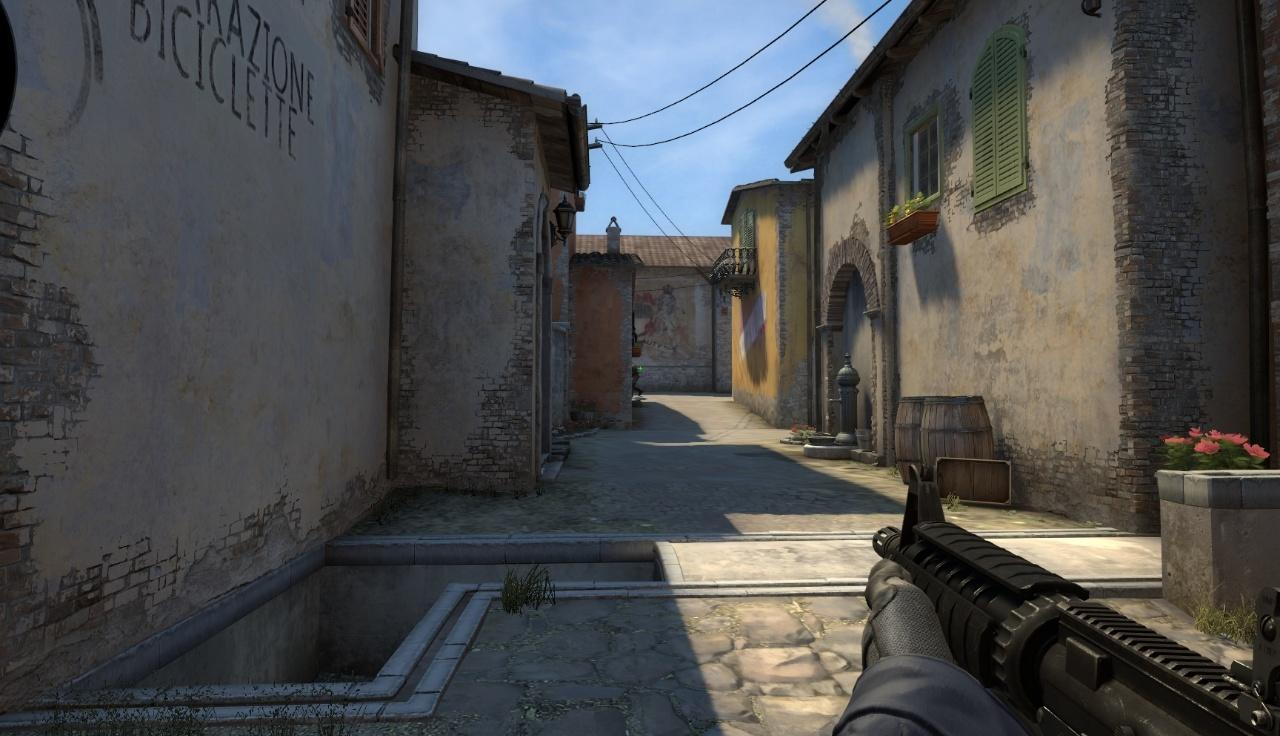rifle: (847, 462, 1273, 730)
tt: (631, 363, 644, 399)
